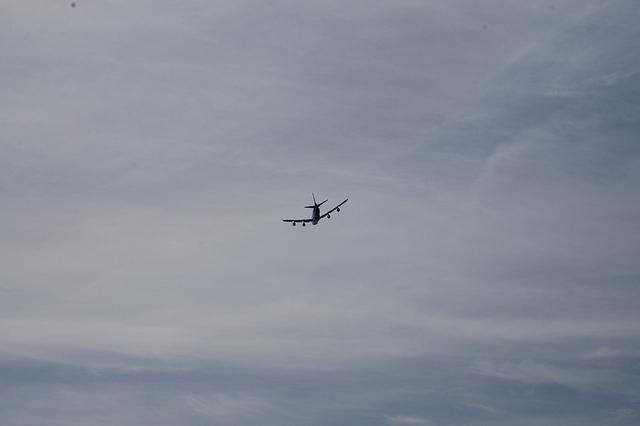airplane: (280, 194, 352, 228)
